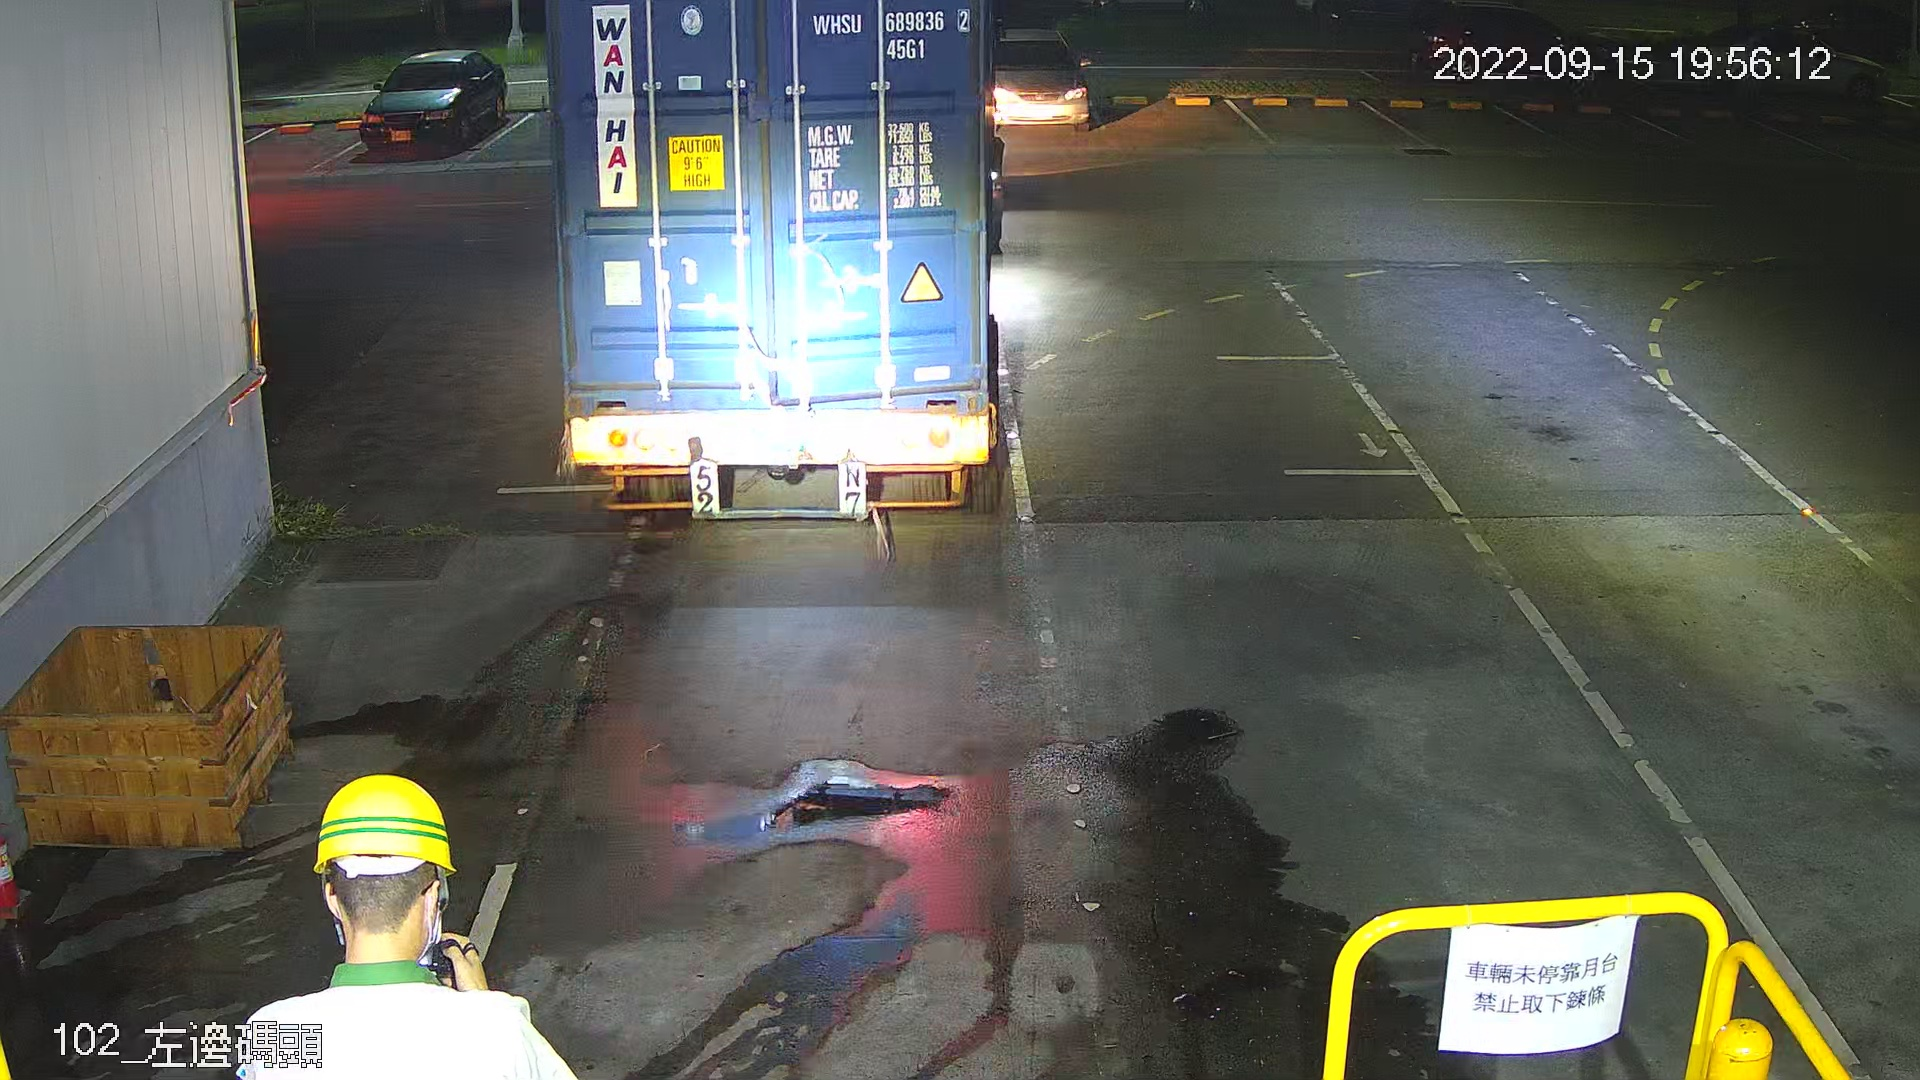container: (800, 3, 972, 70)
